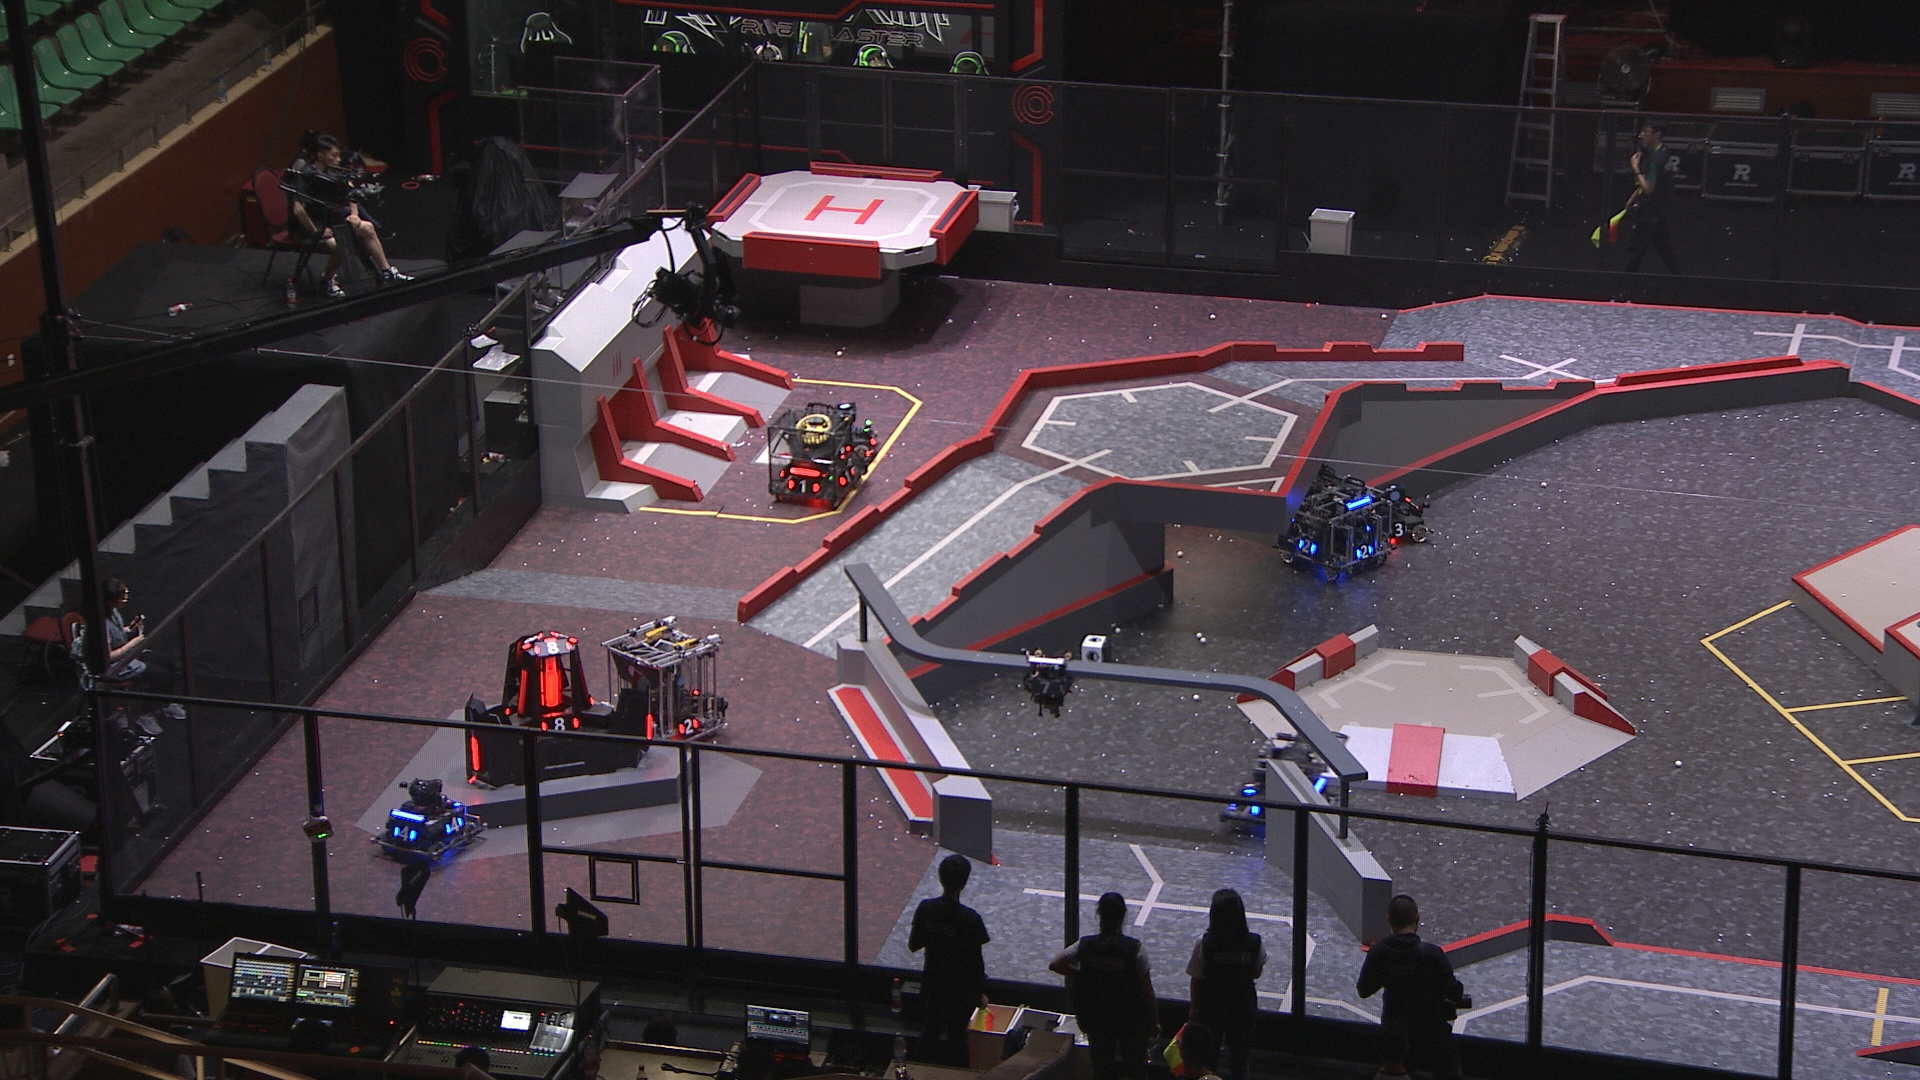armor: (539, 655, 562, 713), (541, 713, 580, 732), (785, 477, 822, 496), (389, 822, 417, 844), (533, 640, 571, 655), (1295, 538, 1319, 560), (467, 733, 480, 773), (516, 670, 527, 713), (1031, 679, 1063, 695), (524, 629, 545, 650), (840, 465, 860, 487), (678, 716, 700, 735), (442, 815, 465, 832), (642, 711, 654, 744), (1352, 543, 1373, 560), (1386, 524, 1411, 537), (1244, 778, 1259, 798)
base: (465, 626, 659, 785)
car: (599, 617, 732, 746), (1273, 456, 1396, 585), (1220, 723, 1361, 835), (764, 401, 868, 510), (371, 779, 485, 872), (1361, 472, 1433, 553), (806, 398, 887, 465)
watcher: (1022, 646, 1077, 717)
